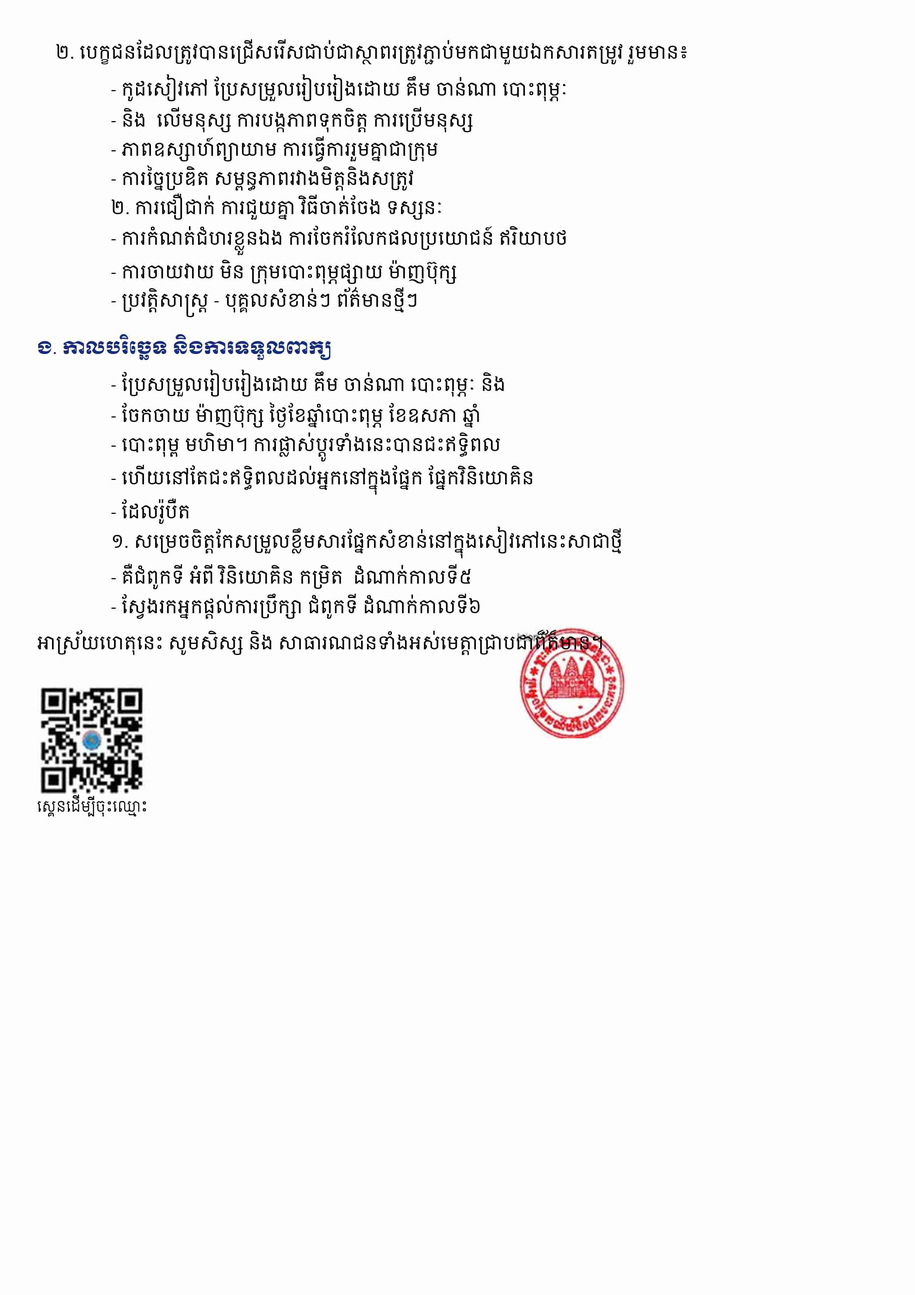decorative: (37, 683, 148, 794), (517, 628, 627, 738)
text: (111, 526, 623, 559), (55, 39, 689, 65), (37, 630, 604, 655), (111, 226, 568, 255), (111, 74, 568, 102), (111, 465, 534, 495), (111, 432, 501, 462), (111, 370, 506, 397), (111, 402, 481, 428), (111, 107, 473, 133), (111, 564, 472, 590), (111, 594, 482, 619), (111, 287, 418, 317), (111, 193, 443, 220), (111, 136, 439, 162), (111, 260, 457, 284), (111, 165, 414, 191), (37, 334, 331, 360), (37, 794, 148, 817), (111, 498, 190, 524)
